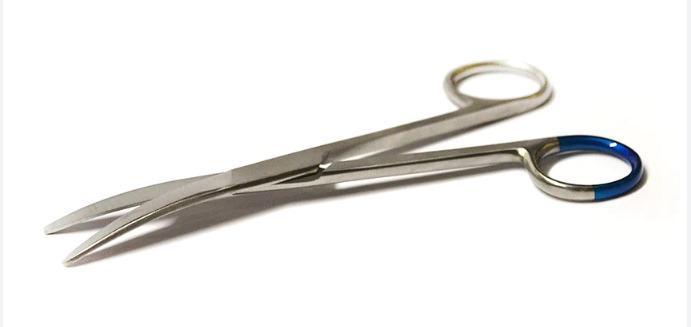Curved Mayo: (43, 55, 630, 263)
